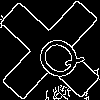Q: (25, 25, 88, 87)
